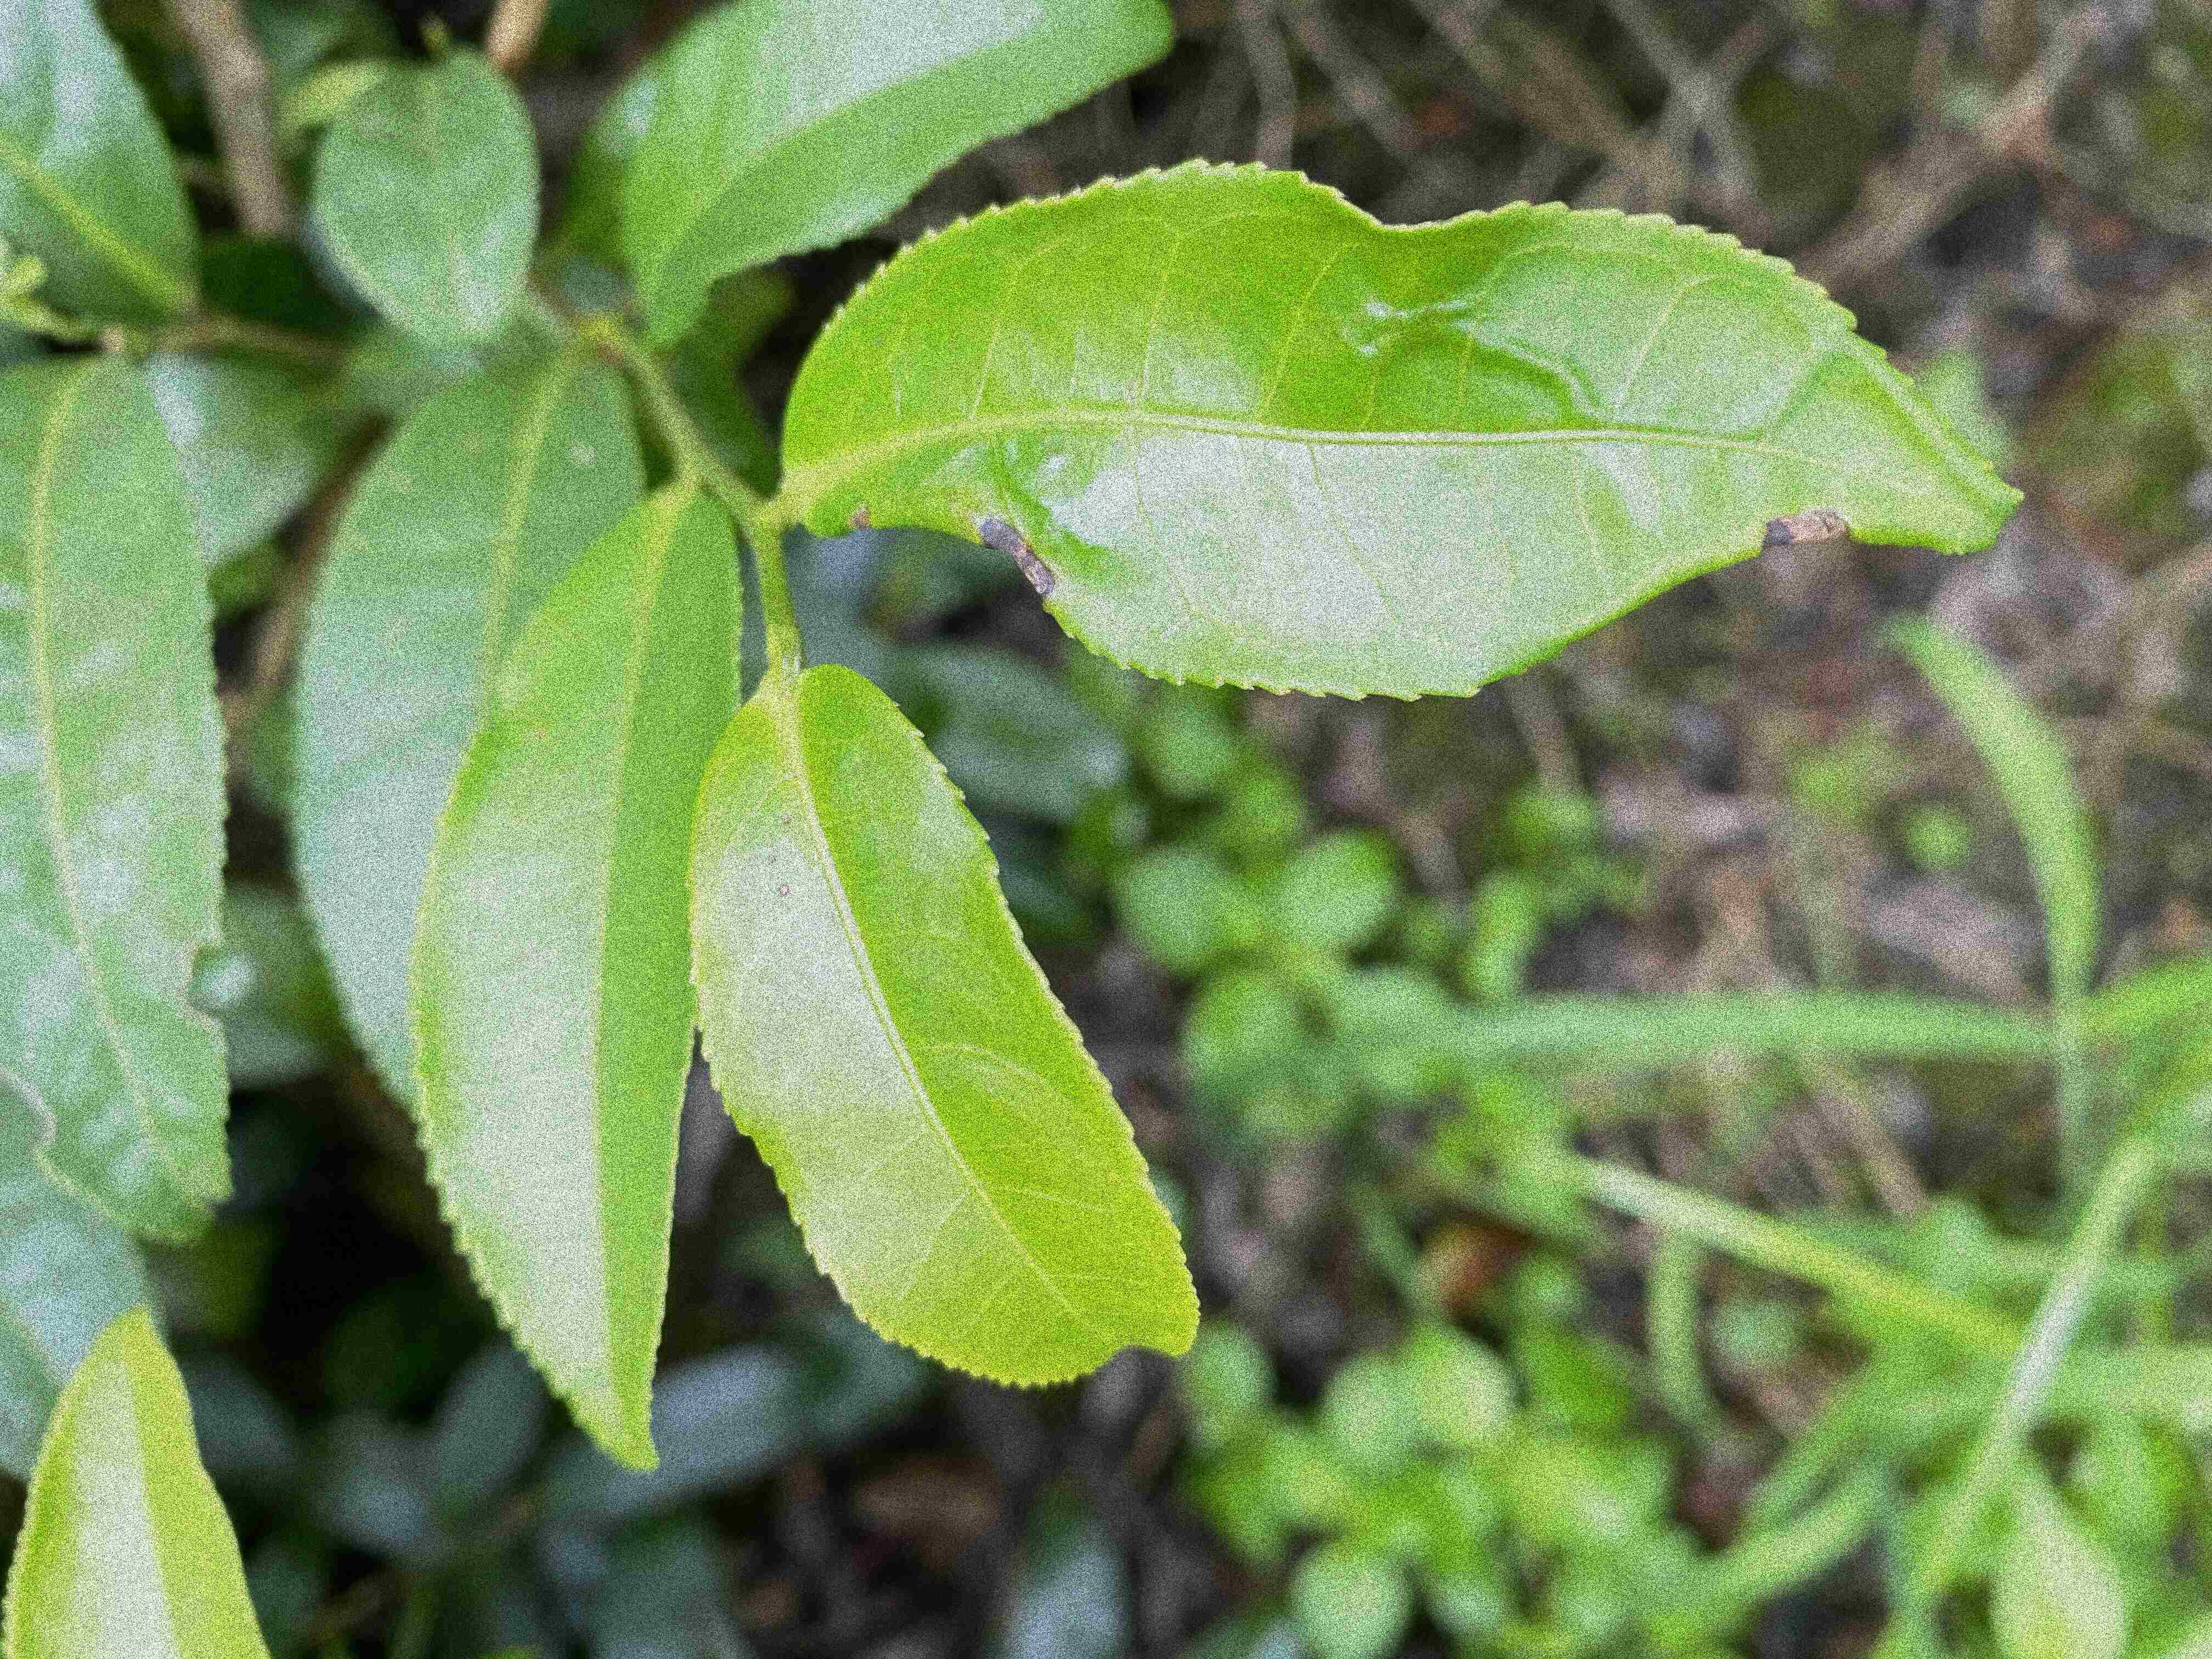chihuo_high: (3, 354, 242, 1243)
healthy: (685, 655, 1202, 1389), (413, 479, 752, 1469), (0, 1310, 273, 1657)
tanju_low: (772, 153, 2027, 702)
